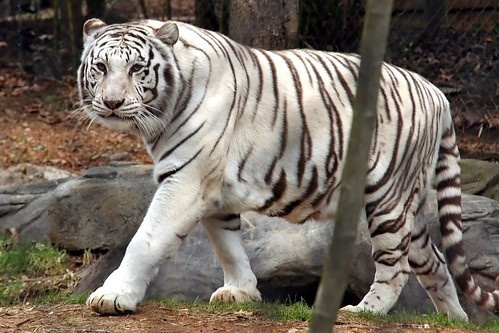tigre: (69, 19, 470, 314)
